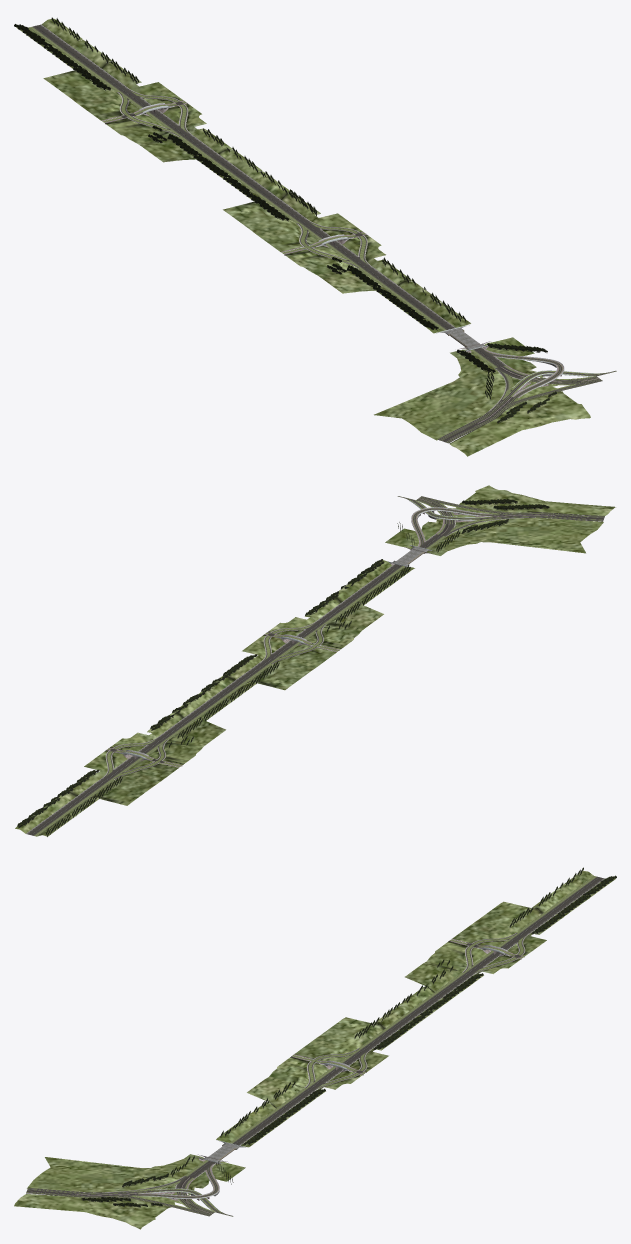
File: aplinkelis.fbx
The picture shows the model from 3 angles, top to bottom: view 1: azimuth 30°, elevation 25°; view 2: azimuth 150°, elevation 25°; view 3: azimuth 330°, elevation 25°; orthographic projection. The views are drawn at different scales.
Parts seen in each view (by area): view 1: treeline (2), kelias.001, vgsSairportland13.001, vgsSairportland13.003, vgsSairportland13.016, vgsSairportland13.004, kelias.006, vgsSairportland13.007, vgsSairportland13.000, vgsSairportland13.006, vgsSairportland13.002, VegasSroad017.001 (+3 smaller); view 2: treeline (2), kelias.001, vgsSairportland13.001, vgsSairportland13.003, vgsSairportland13.016, vgsSairportland13.000, kelias.006, vgsSairportland13.007, vgsSairportland13.004, vgsSairportland13.002, vgsSairportland13.006, VegasSroad017.001 (+3 smaller); view 3: vgsSairportland13.003, vgsSairportland13.001, kelias.001, treeline (2), vgsSairportland13.016, vgsSairportland13.000, vgsSairportland13.007, kelias.006, VegasSroad017.001, kelias.004, vgsSairportland13.004, kelias.005 (+2 smaller).
Part boxes in pixels (x1,y1,x2,y2): treeline (2): (14,17,556,423); kelias.001: (58,46,506,368); vgsSairportland13.001: (374,349,505,440); vgsSairportland13.003: (105,118,302,251); vgsSairportland13.016: (449,391,590,456); vgsSairportland13.004: (185,103,362,232); kelias.006: (438,364,616,443); vgsSairportland13.007: (43,48,122,120); vgsSairportland13.000: (284,249,442,333); vgsSairportland13.006: (42,18,183,100); vgsSairportland13.002: (364,235,470,327); VegasSroad017.001: (102,93,599,423); treeline (2): (17,499,549,836); kelias.001: (52,534,445,817); vgsSairportland13.001: (426,517,603,555); vgsSairportland13.003: (163,647,336,765); vgsSairportland13.016: (459,485,615,515); vgsSairportland13.000: (321,567,414,649); kelias.006: (397,496,604,536); vgsSairportland13.007: (63,763,178,817); vgsSairportland13.004: (110,634,266,748); vgsSairportland13.002: (268,560,392,632); vgsSairportland13.006: (15,750,108,833); VegasSroad017.001: (106,498,555,778); vgsSairportland13.003: (294,941,467,1058); vgsSairportland13.001: (27,1154,203,1192); kelias.001: (185,895,578,1178); treeline (2): (81,867,616,1207); vgsSairportland13.016: (14,1194,171,1229); vgsSairportland13.000: (216,1057,309,1142); vgsSairportland13.007: (452,889,567,943); kelias.006: (26,1176,233,1216); VegasSroad017.001: (75,936,526,1213); kelias.004: (450,932,527,974); vgsSairportland13.004: (364,958,521,1072); kelias.005: (292,1048,369,1090).
Bounding box in the file's own units: 72161 × 2633 × 300522.
